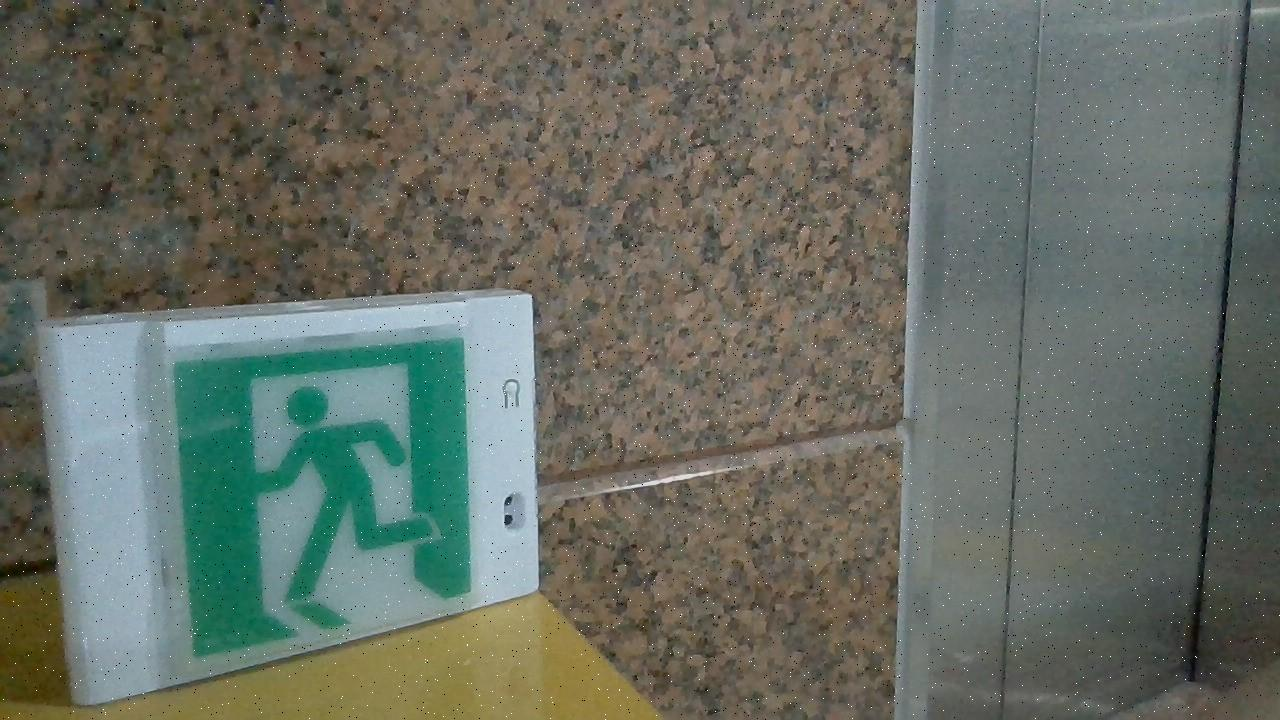emergency_exit: (34, 286, 541, 706)
